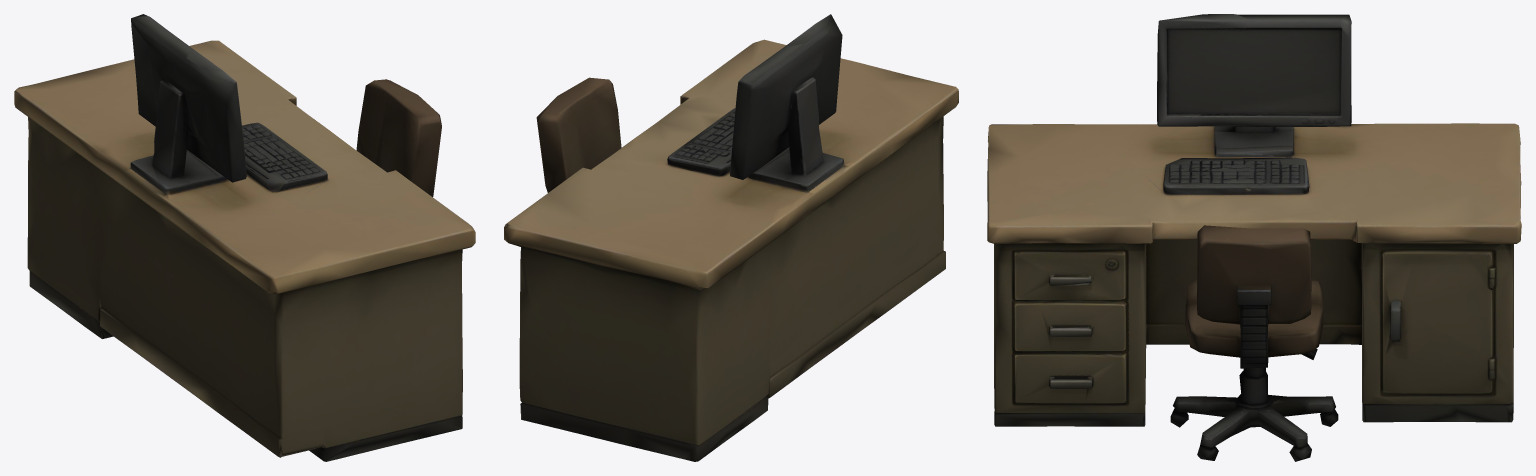
File: desk.fbx
3 renders of one model, left to right at view 1: azimuth 30°, elevation 25°; view 2: azimuth 150°, elevation 25°; view 3: azimuth 270°, elevation 25°, orthographic. The views are drawn at different scales.
Visible parts, largest first — view 1: tripo_node_0d519730; view 2: tripo_node_0d519730; view 3: tripo_node_0d519730.
Boxes of the visible parts, x1,y1,x2,y2 form: tripo_node_0d519730: [14, 14, 475, 461]; tripo_node_0d519730: [504, 14, 958, 461]; tripo_node_0d519730: [987, 14, 1521, 461].
Size of the model in its own units: 0.6099 by 0.6843 by 0.9802.
